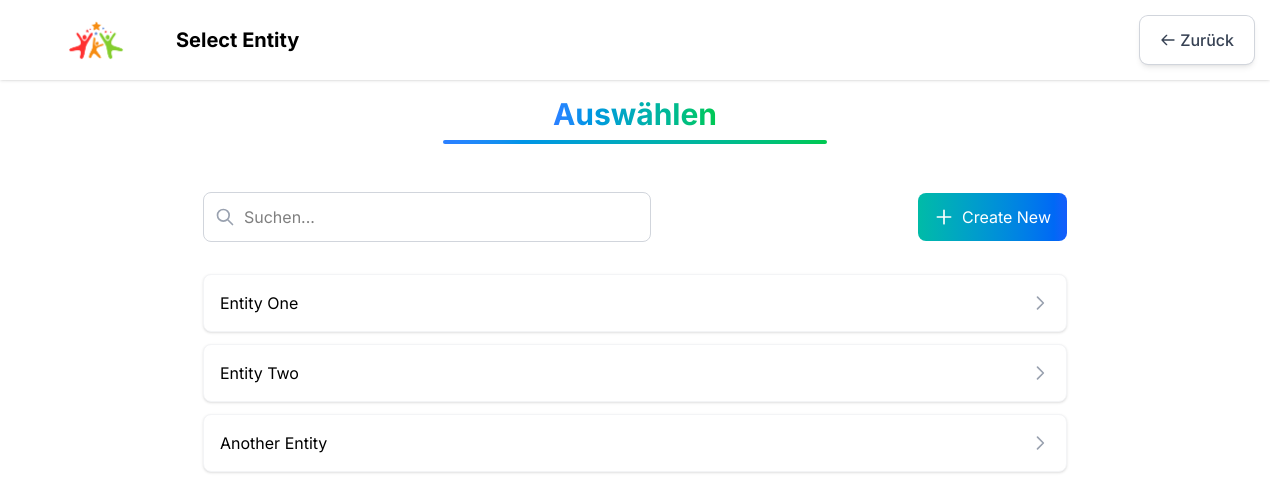
Test: DataListPage › filters entities based on search term
Type "Another" into the field with placeholder "Suchen..." at [427, 217], box [203,192,651,242]
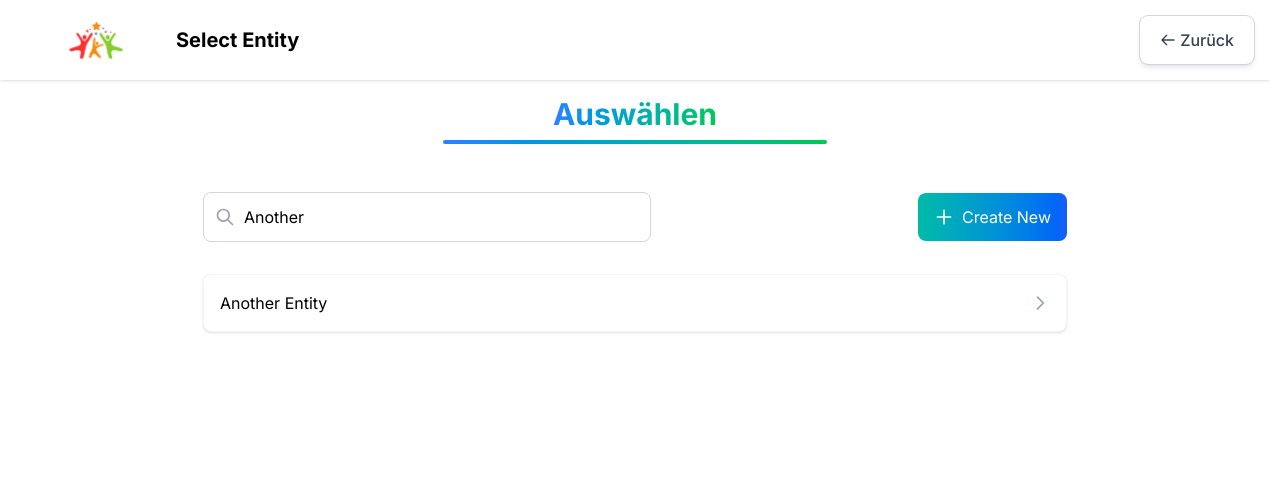
Expected: the text "Another Entity" is shown, [220,291,327,315]
Expected: the button "Entity One" is gone
Expected: the button "Entity Two" is gone
